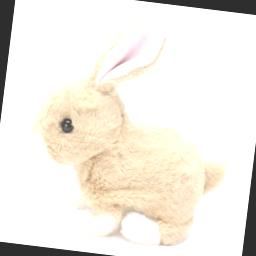rabbit: (28, 14, 227, 243)
